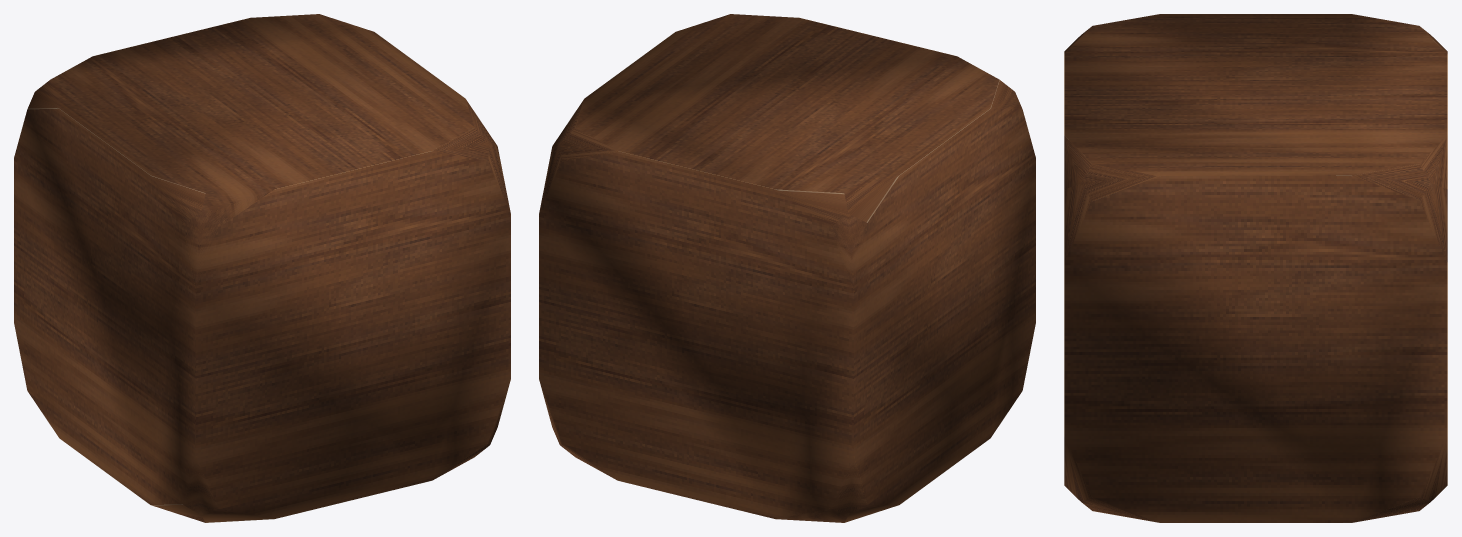
Rendered from BlockB.fbx.
3 renders of one model, left to right at view 1: azimuth 30°, elevation 25°; view 2: azimuth 150°, elevation 25°; view 3: azimuth 270°, elevation 25°, orthographic. The views are drawn at different scales.
Parts seen in each view (by area): view 1: BlockB; view 2: BlockB; view 3: BlockB.
Boxes of the visible parts, <box> form: BlockB: <box>14,14,510,522</box>; BlockB: <box>539,14,1035,522</box>; BlockB: <box>1064,14,1447,522</box>.
Bounding box in the file's own units: 1 × 1 × 1.
1 material, 1 textured.
